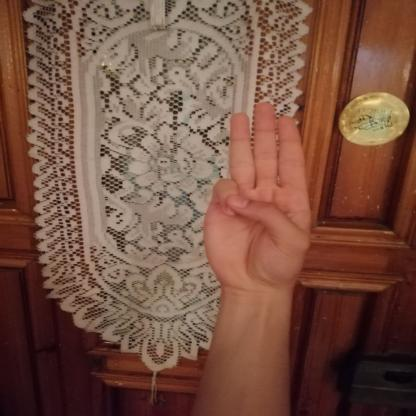THA: (189, 92, 323, 300)
